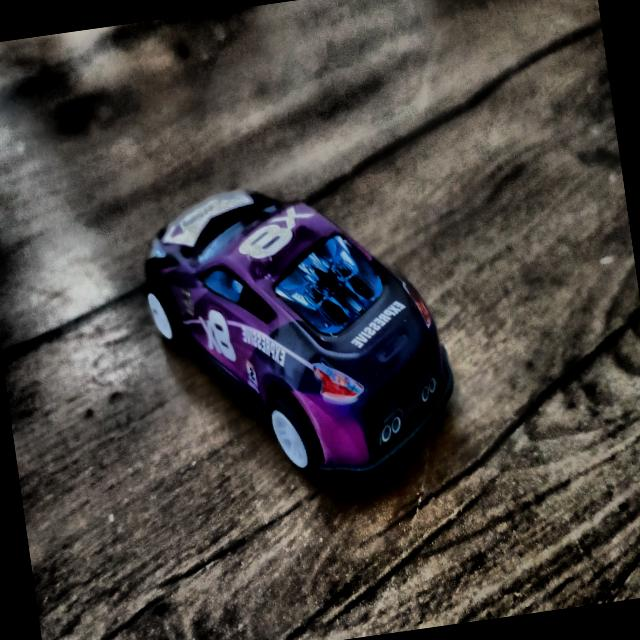Car: (132, 155, 470, 512)
